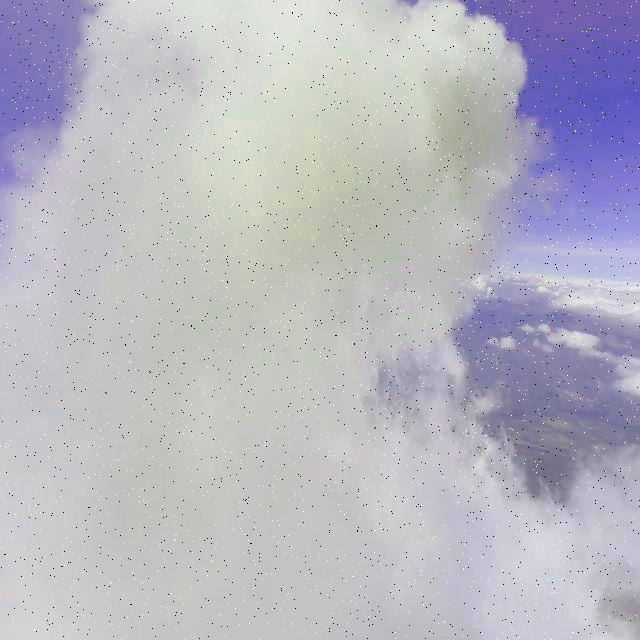Plume: (51, 1, 544, 404)
